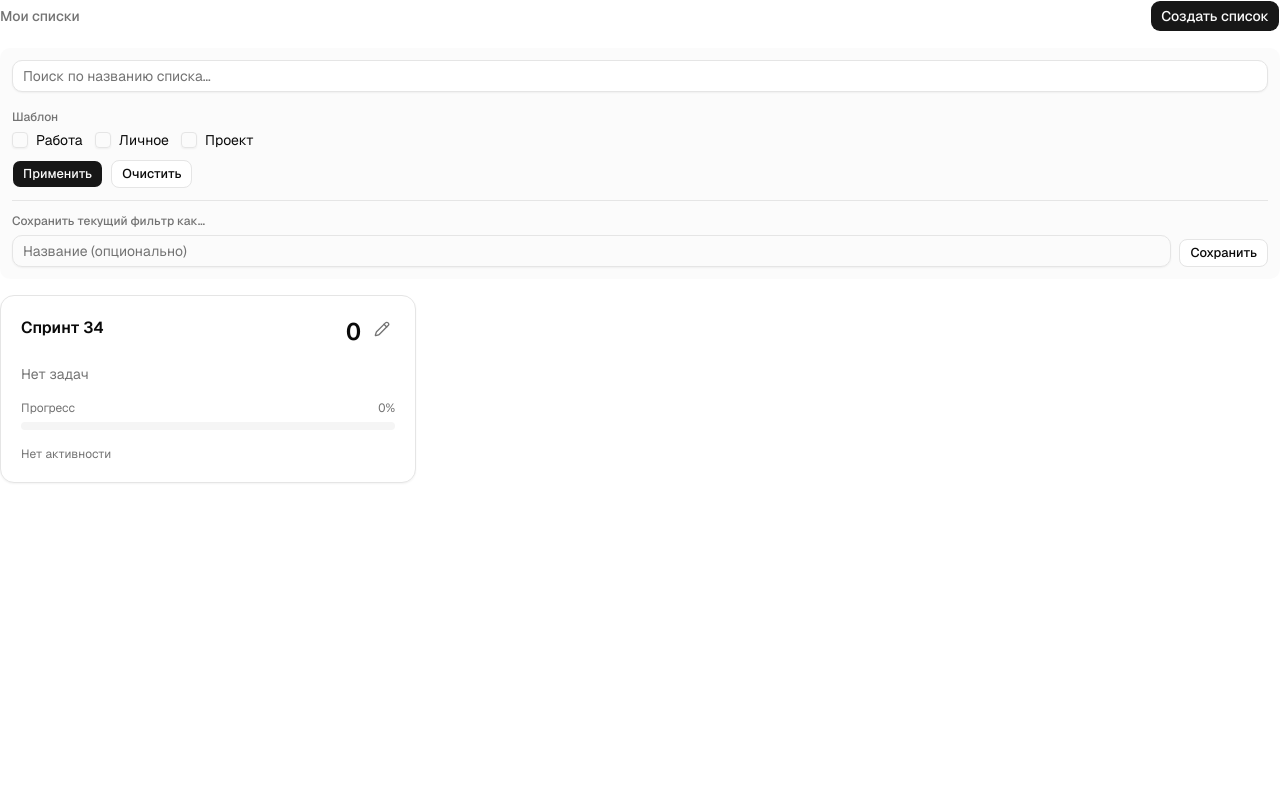
it: DashboardListsPanel › updates a card's title after a successful edit, without a page reload
Click the button named "Редактировать список «Спринт 34»": x=382, y=329 x1=368 y1=315 x2=396 y2=343
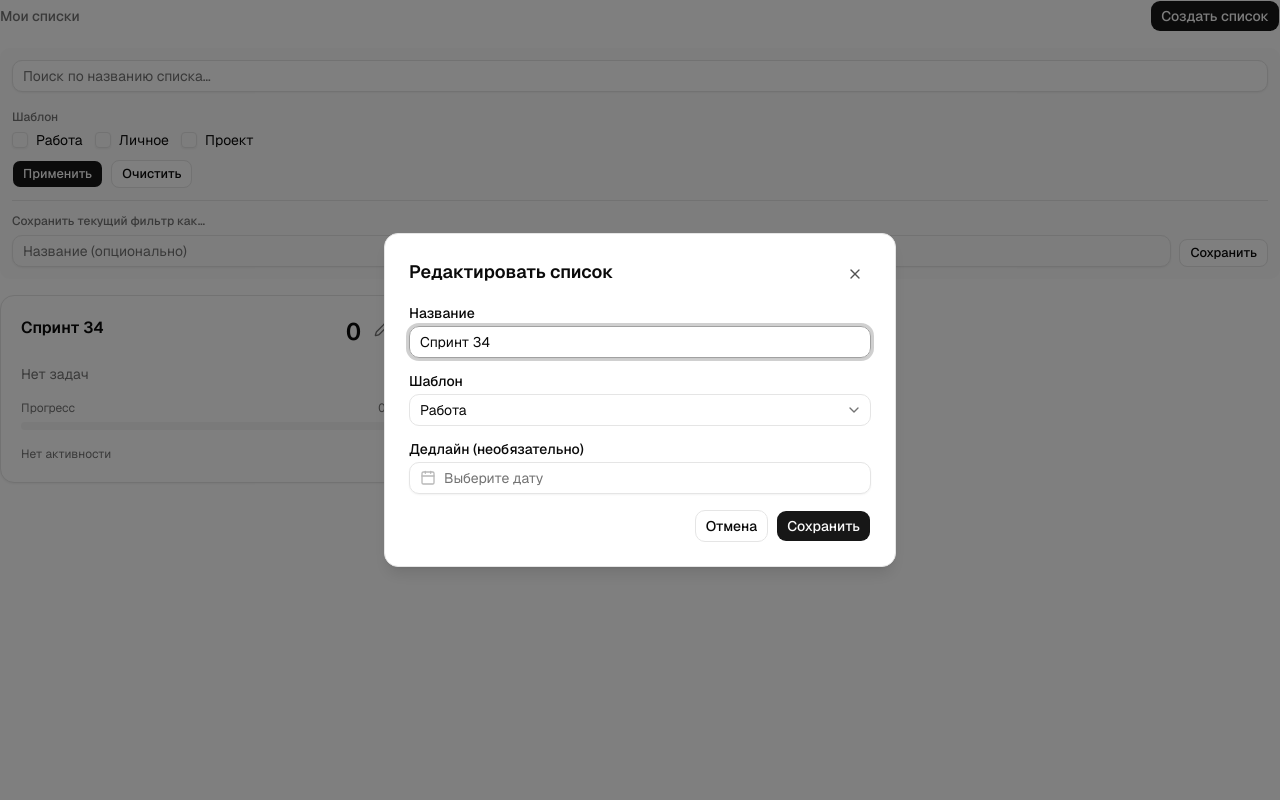
Click the button "Сохранить": x=824, y=526 x1=776 y1=510 x2=871 y2=542
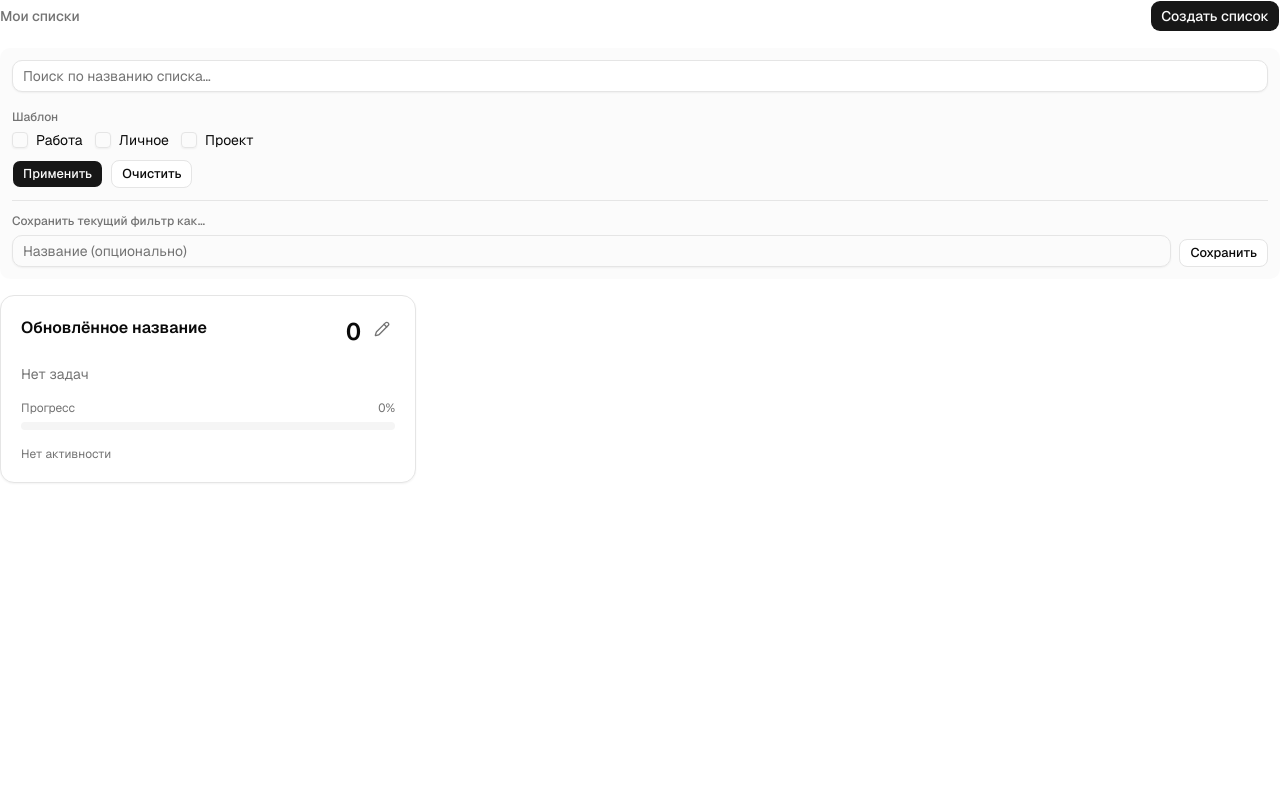
Expected: the number of links with test id "list-card" is 1, x1=0 y1=295 x2=416 y2=483
Now the heading "Обновлённое название" is shown, box x1=21 y1=316 x2=207 y2=340
Now the link "Спринт 34" is gone
